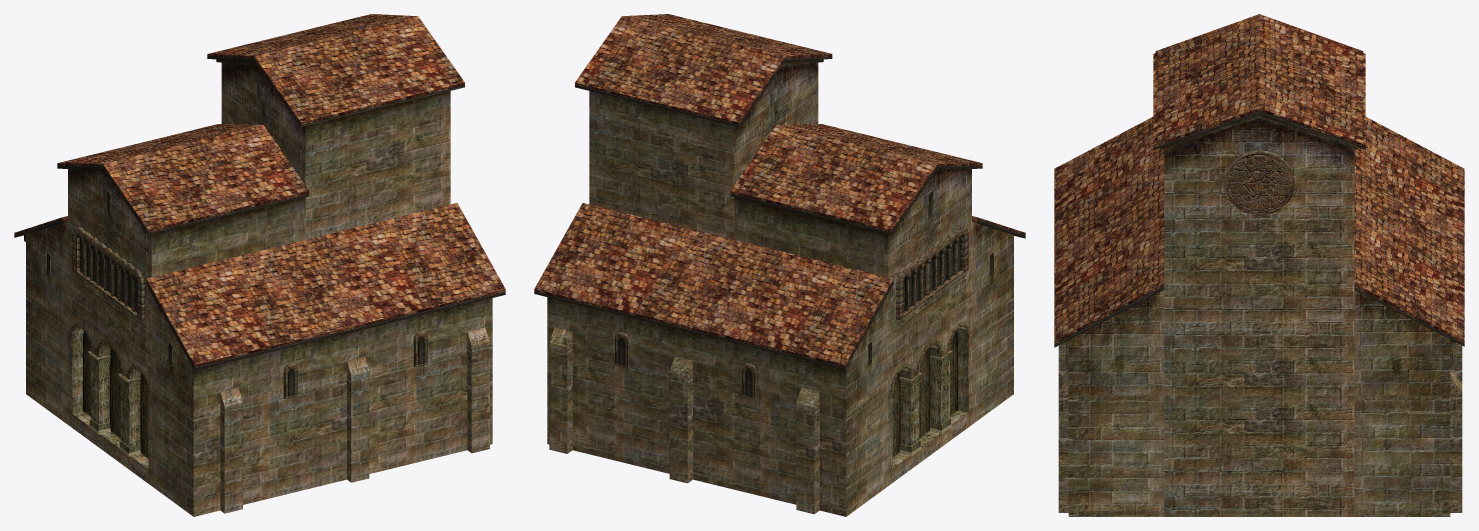
The model's file is T_HOUSE6.glb.
3 renders of one model, left to right at view 1: azimuth 30°, elevation 25°; view 2: azimuth 150°, elevation 25°; view 3: azimuth 270°, elevation 25°, orthographic. The views are drawn at different scales.
Visible parts, largest first — view 1: T_HOUSE6-col; view 2: T_HOUSE6-col; view 3: T_HOUSE6-col.
Boxes of the visible parts, box(x1,y1,x2,y2) form: T_HOUSE6-col: box(14, 14, 505, 516); T_HOUSE6-col: box(534, 14, 1025, 516); T_HOUSE6-col: box(1054, 14, 1464, 516).
Size of the model in its own units: 14.03 by 15.48 by 13.9.
Materials: 14 (14 with a texture image).
